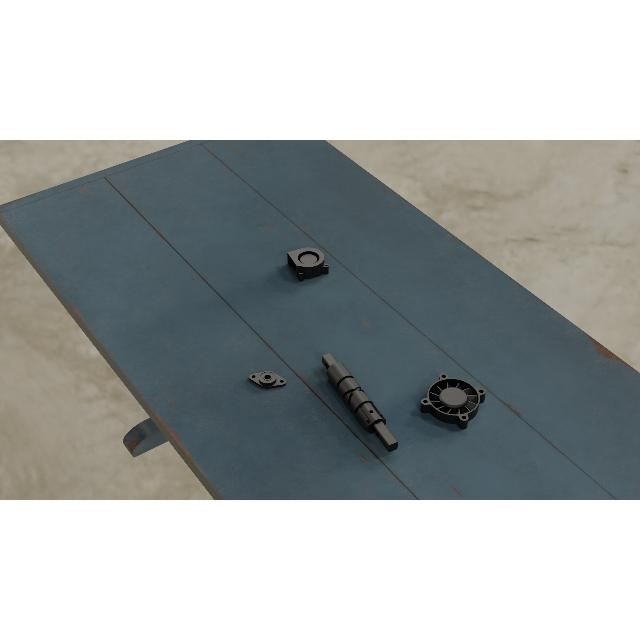Pieza1: (317, 348, 403, 458)
Pieza2: (247, 366, 290, 392)
Pieza3: (288, 244, 330, 282)
Pieza4: (418, 372, 488, 432)
